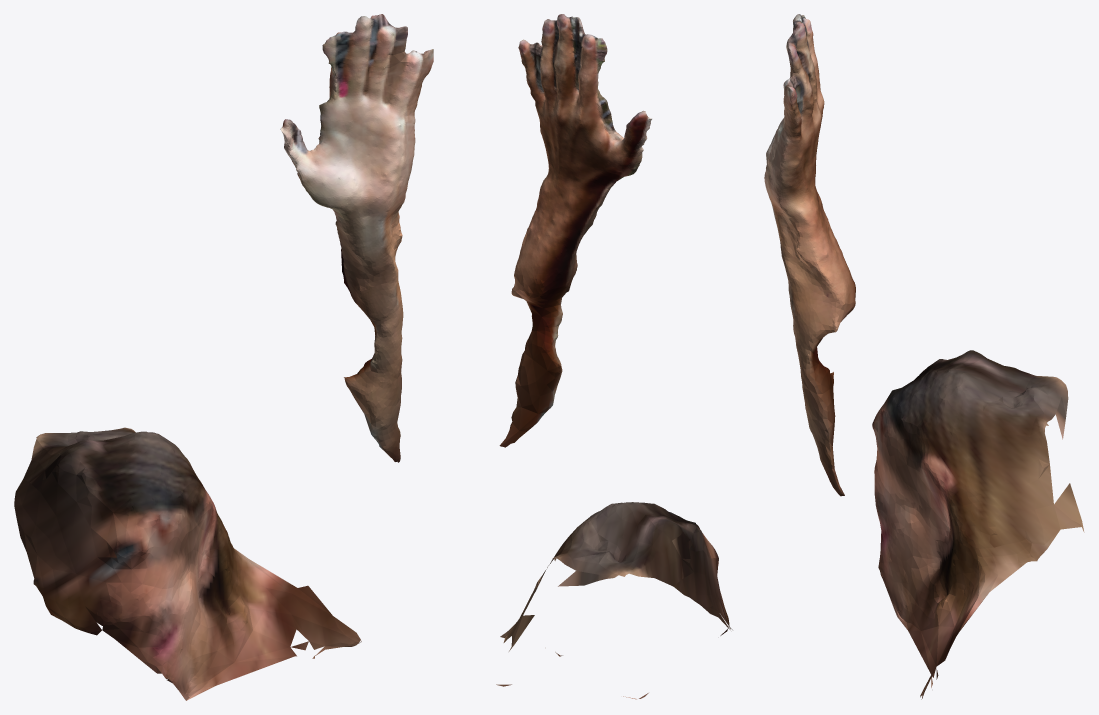
File: Scaniverse 2023-10-17 180748.glb
3 views of the same model, side by side, from view 1: azimuth 30°, elevation 25°; view 2: azimuth 150°, elevation 25°; view 3: azimuth 270°, elevation 25° (orthographic). The views are drawn at different scales.
Parts seen in each view (by area): view 1: mesh; view 2: mesh; view 3: mesh.
Part boxes in pixels (<box>): mesh: <box>14,14,433,700</box>; mesh: <box>496,14,732,699</box>; mesh: <box>764,14,1084,699</box>.
Size of the model in its own units: 0.3399 by 0.7102 by 0.309.
Materials: 1 (1 with a texture image).
